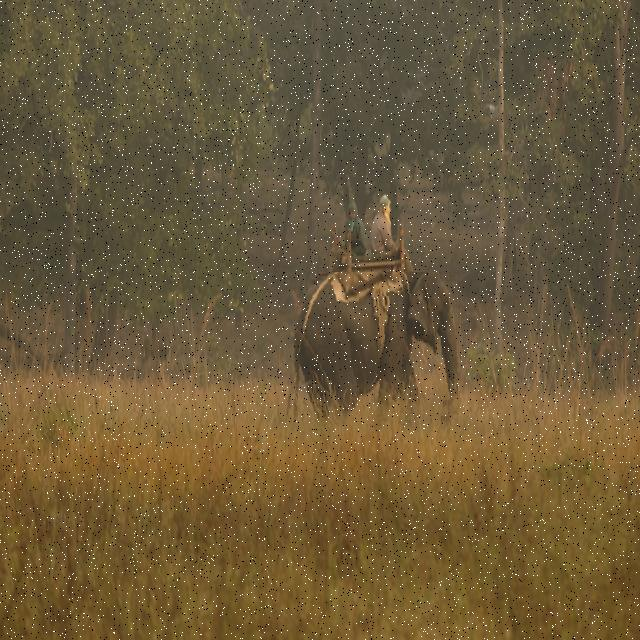elephant: (280, 272, 458, 428)
